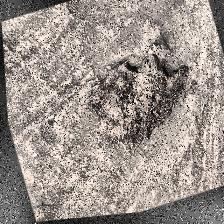pothole: (72, 33, 206, 167)
